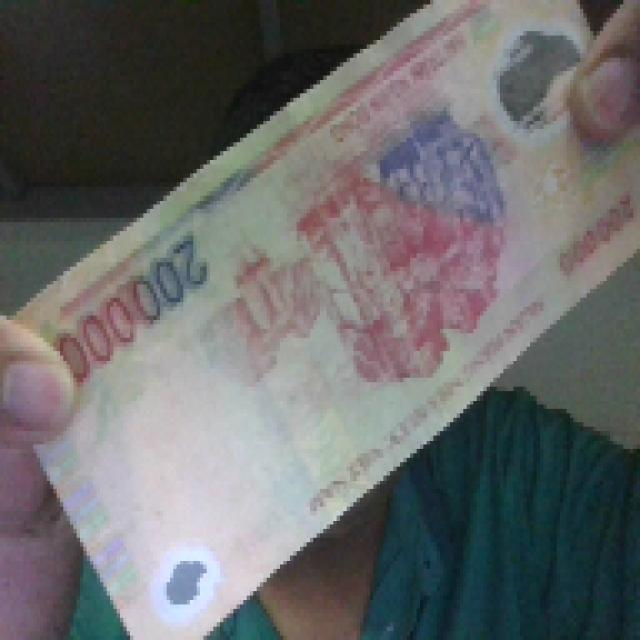200 000 VND: (6, 0, 636, 636)
